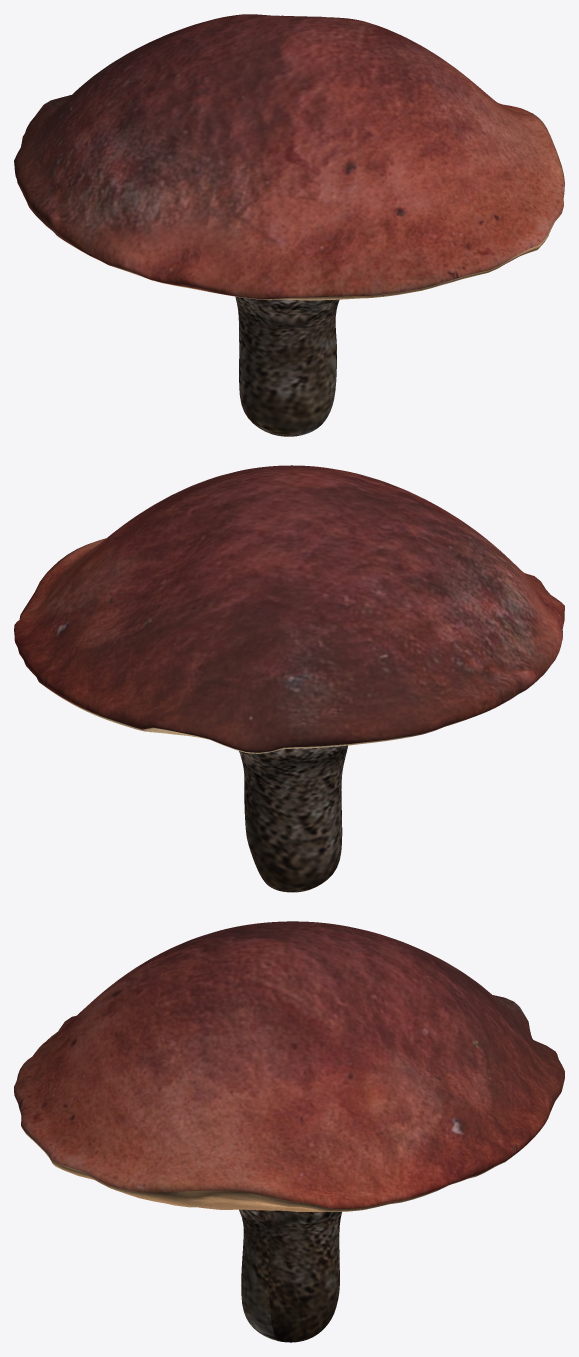
Rendered from SENE_47.fbx.
3 views of the same model, one above another, from view 1: azimuth 30°, elevation 25°; view 2: azimuth 150°, elevation 25°; view 3: azimuth 270°, elevation 25° (orthographic).
Parts seen in each view (by area): view 1: SENE_47; view 2: SENE_47; view 3: SENE_47.
Boxes of the visible parts, x1,y1,x2,y2 form: SENE_47: (14,14,564,436); SENE_47: (14,465,564,892); SENE_47: (14,921,564,1342).
Bounding box in the file's own units: 132 × 105 × 133.
Materials: 1 (1 with a texture image).
